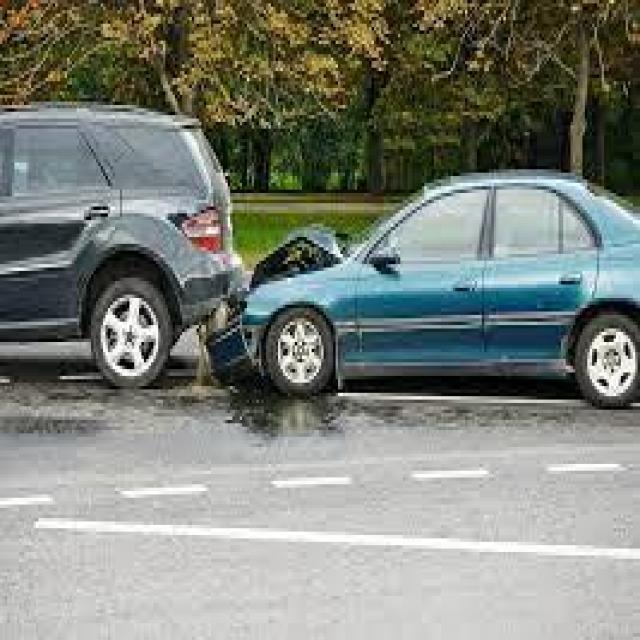moderate: (0, 90, 640, 412)
